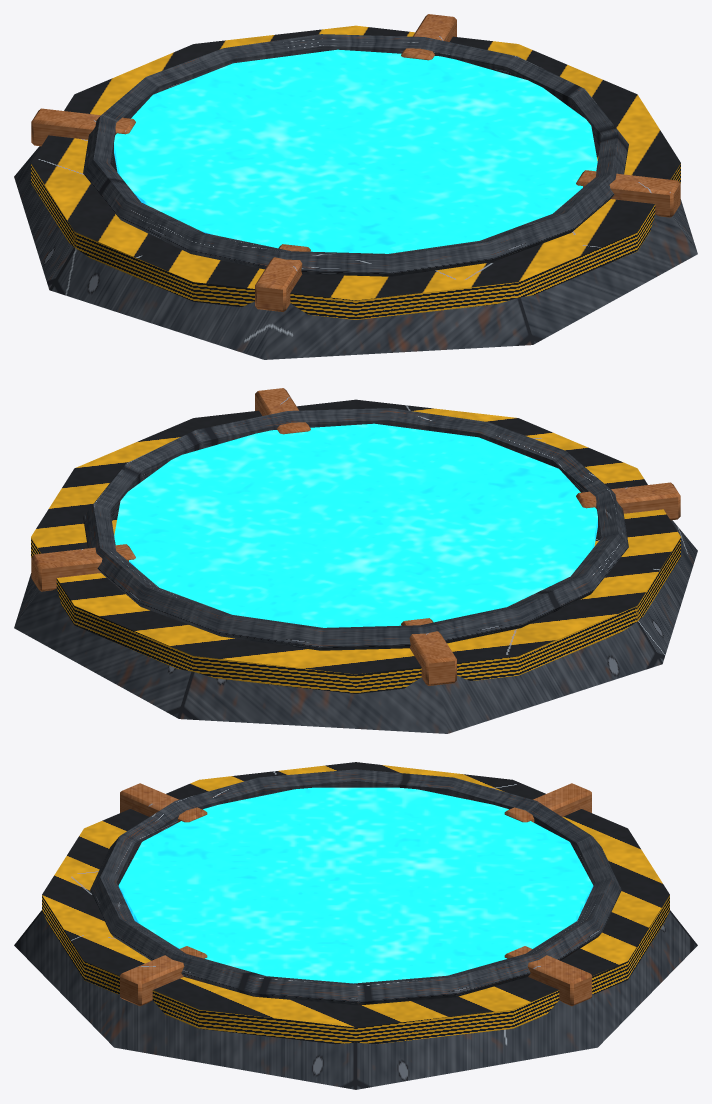
Rendered from jumppad_octagon_scifi.glb.
The picture shows the model from 3 angles, top to bottom: view 1: azimuth 30°, elevation 25°; view 2: azimuth 150°, elevation 25°; view 3: azimuth 270°, elevation 25°; orthographic projection. The views are drawn at different scales.
Visible parts, largest first — view 1: pad_impulso; view 2: pad_impulso; view 3: pad_impulso.
Part boxes in pixels (x1,y1,x2,y2): pad_impulso: (14, 14, 697, 359); pad_impulso: (14, 388, 697, 733); pad_impulso: (14, 762, 697, 1089).
Bounding box in the file's own units: 1.96 × 0.2149 × 1.96.
Materials: 4 (4 with a texture image).
